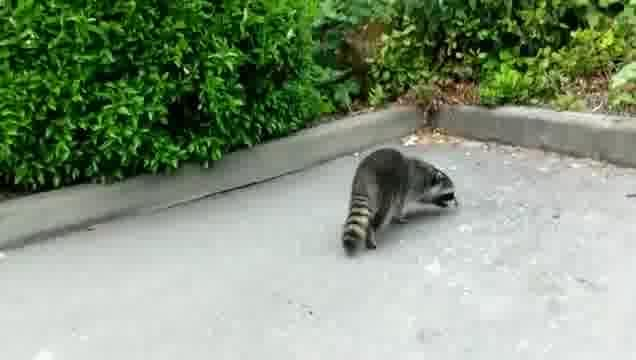raccoon: (340, 147, 462, 261)
